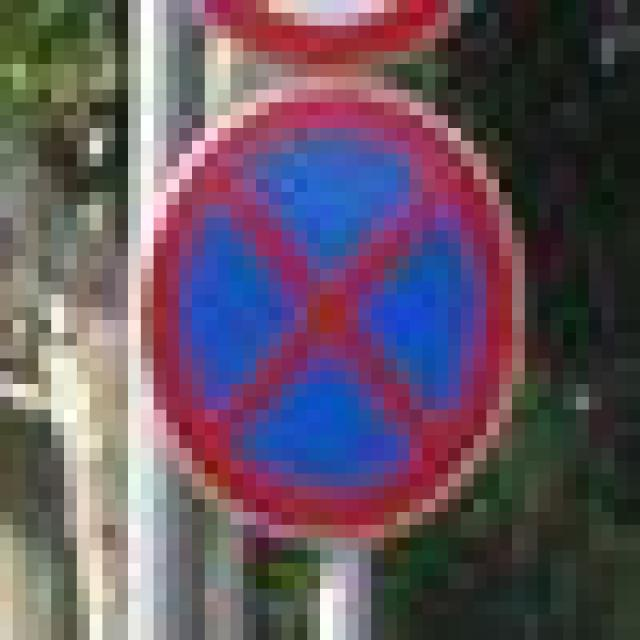no_parking: (128, 64, 512, 525)
